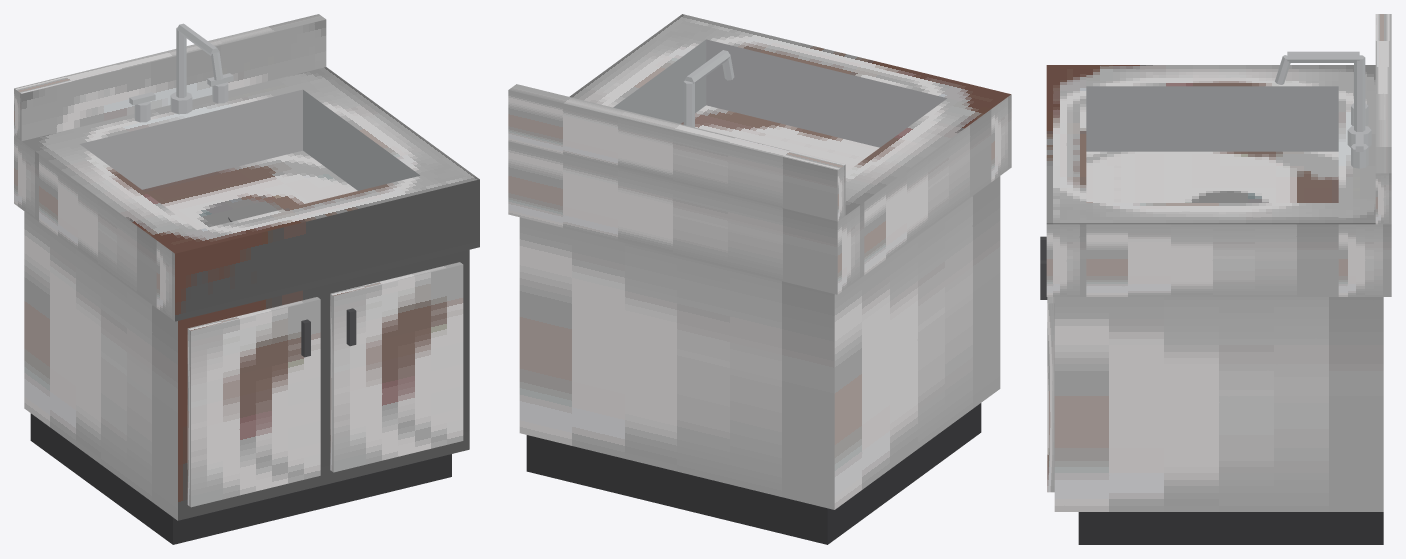
The model's file is Building_AncientKitchenSink.glb.
3 views of the same model, side by side, from view 1: azimuth 30°, elevation 25°; view 2: azimuth 150°, elevation 25°; view 3: azimuth 270°, elevation 25° (orthographic). The views are drawn at different scales.
Parts seen in each view (by area): view 1: AncientKitchenSink; view 2: AncientKitchenSink; view 3: AncientKitchenSink.
Part boxes in pixels (bbox=[...]): AncientKitchenSink: bbox=[14, 14, 479, 544]; AncientKitchenSink: bbox=[508, 14, 1011, 544]; AncientKitchenSink: bbox=[1040, 14, 1391, 544].
Bounding box in the file's own units: 0.94 × 1.15 × 0.876.
1 material, 1 textured.
